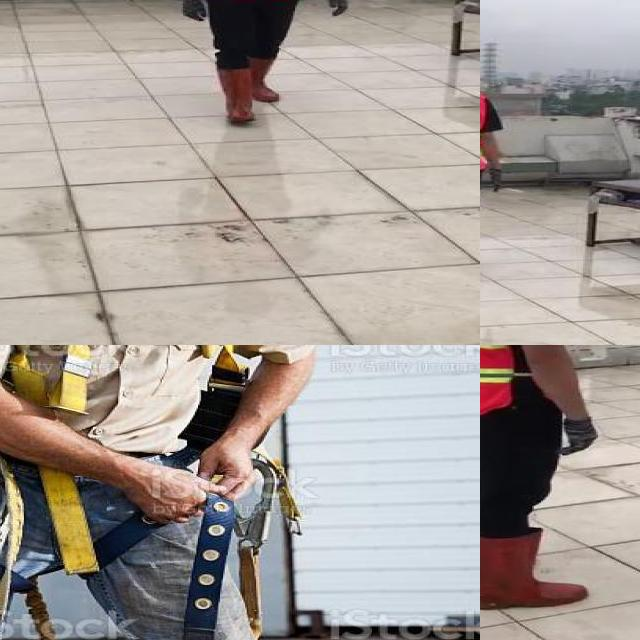Harness: (3, 345, 97, 579)
boots: (480, 530, 585, 610), (480, 507, 528, 586), (218, 67, 256, 126), (247, 56, 288, 103), (563, 419, 604, 460)
hand_glove: (179, 0, 206, 21), (325, 0, 348, 17), (489, 167, 503, 191)
person: (480, 345, 618, 618), (168, 0, 355, 133), (480, 39, 519, 288)
